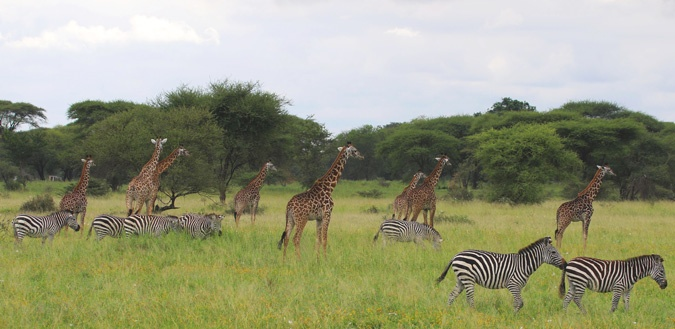giraffe: (275, 136, 370, 263), (553, 162, 621, 246), (126, 141, 196, 219), (404, 150, 456, 238), (125, 134, 169, 220), (230, 157, 280, 230), (60, 151, 97, 239), (390, 169, 427, 229)
zebra: (435, 235, 568, 323), (561, 251, 671, 323), (369, 212, 446, 262), (8, 205, 81, 256), (178, 209, 225, 252), (83, 208, 141, 241), (123, 213, 185, 242)
